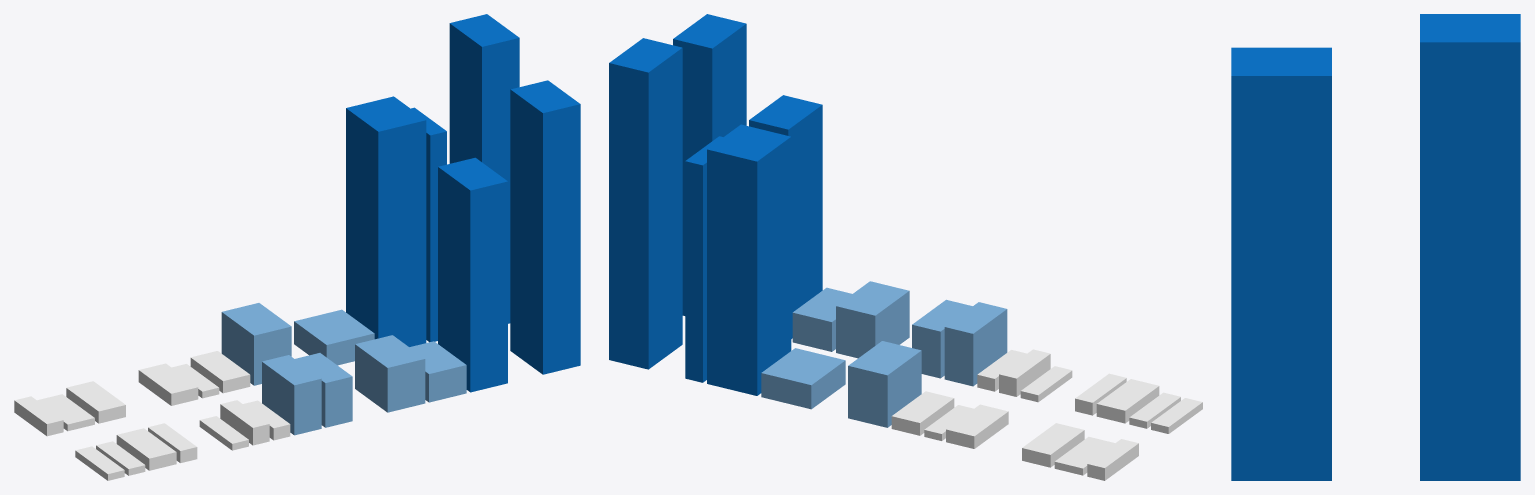
The model's file is 04_Comercial.glb.
3 renders of one model, left to right at view 1: azimuth 30°, elevation 25°; view 2: azimuth 150°, elevation 25°; view 3: azimuth 270°, elevation 25°, orthographic. The views are drawn at different scales.
Parts seen in each view (by area): view 1: Datos_C_Alta_005, Datos_C_Alta_001, Datos_C_Alta_004, Datos_C_Alta_003, Datos_C_Media_005, Datos_C_Media_001, Datos_C_Media_003, Datos_C_Alta_002, Datos_C_Media_002, Datos_C_Media_004, Datos_C_Media_006, Datos_C_Baja_004 (+12 smaller); view 2: Datos_C_Alta_003, Datos_C_Alta_001, Datos_C_Alta_005, Datos_C_Alta_004, Datos_C_Alta_002, Datos_C_Media_001, Datos_C_Media_005, Datos_C_Media_003, Datos_C_Media_002, Datos_C_Media_006, Datos_C_Media_004, Datos_C_Baja_004 (+12 smaller); view 3: Datos_C_Alta_003, Datos_C_Alta_005.
Part boxes in pixels (x1,y1,x2,y2): Datos_C_Alta_005: (510, 80, 580, 374); Datos_C_Alta_001: (346, 96, 426, 346); Datos_C_Alta_004: (438, 157, 507, 392); Datos_C_Alta_003: (449, 14, 519, 323); Datos_C_Media_005: (355, 335, 425, 412); Datos_C_Media_001: (221, 303, 291, 385); Datos_C_Media_003: (262, 355, 321, 435); Datos_C_Alta_002: (411, 107, 446, 342); Datos_C_Media_002: (294, 309, 374, 365); Datos_C_Media_004: (295, 353, 352, 427); Datos_C_Media_006: (409, 341, 466, 402); Datos_C_Baja_004: (138, 363, 198, 405); Datos_C_Alta_003: (609, 38, 682, 369); Datos_C_Alta_001: (707, 124, 791, 395); Datos_C_Alta_005: (673, 14, 746, 315); Datos_C_Alta_004: (749, 95, 822, 338); Datos_C_Alta_002: (685, 136, 723, 382); Datos_C_Media_001: (848, 341, 921, 427); Datos_C_Media_005: (836, 281, 909, 358); Datos_C_Media_003: (944, 302, 1007, 386); Datos_C_Media_002: (761, 348, 845, 409); Datos_C_Media_006: (792, 287, 851, 351); Datos_C_Media_004: (912, 299, 972, 378); Datos_C_Baja_004: (946, 404, 1008, 448); Datos_C_Alta_003: (1420, 14, 1520, 480); Datos_C_Alta_005: (1231, 47, 1331, 480).
Bounding box in the file's own units: 365 × 209 × 125.
